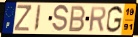B: (68, 5, 87, 33)
G: (105, 5, 124, 34)
I: (33, 4, 42, 32)
R: (88, 6, 107, 33)
S: (51, 4, 70, 34)
Z: (13, 4, 32, 32)
